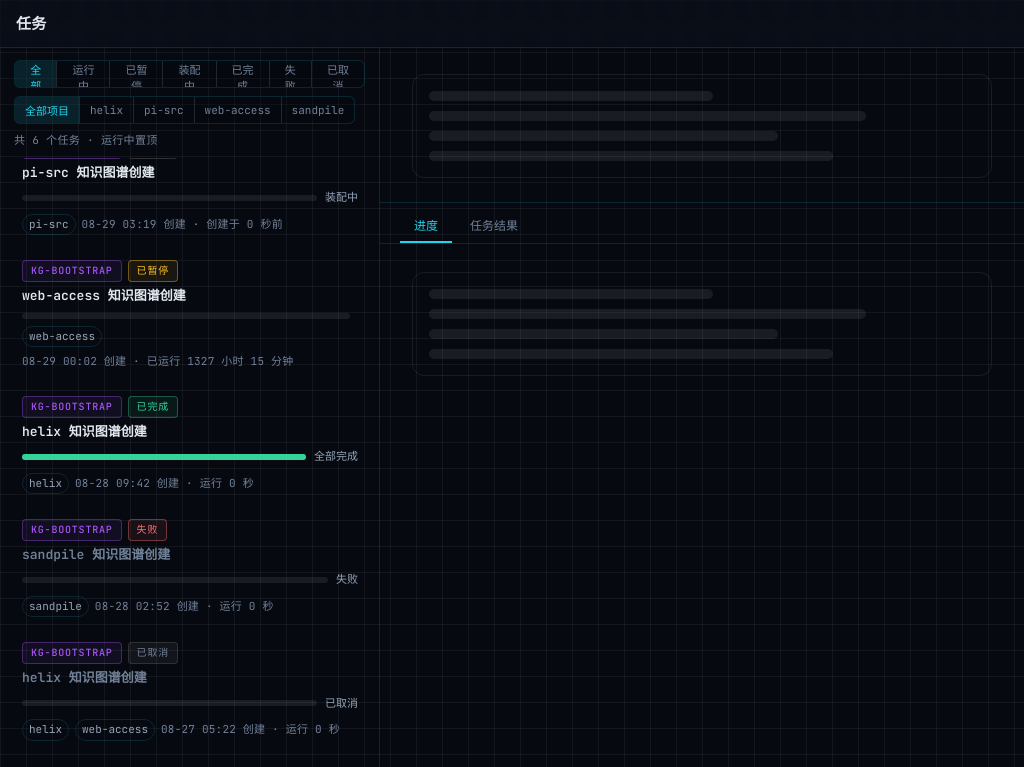
it: P-2 TasksPage：生命周期 + 删除门控（F3.5/F3.6） › failed 详情：重试+删除钮；重试命令回执 → 运行中 + toast
(page scrolled)
Click the 4th button with class "tk-row".
click(72, 530)  # box [8,509,371,628]
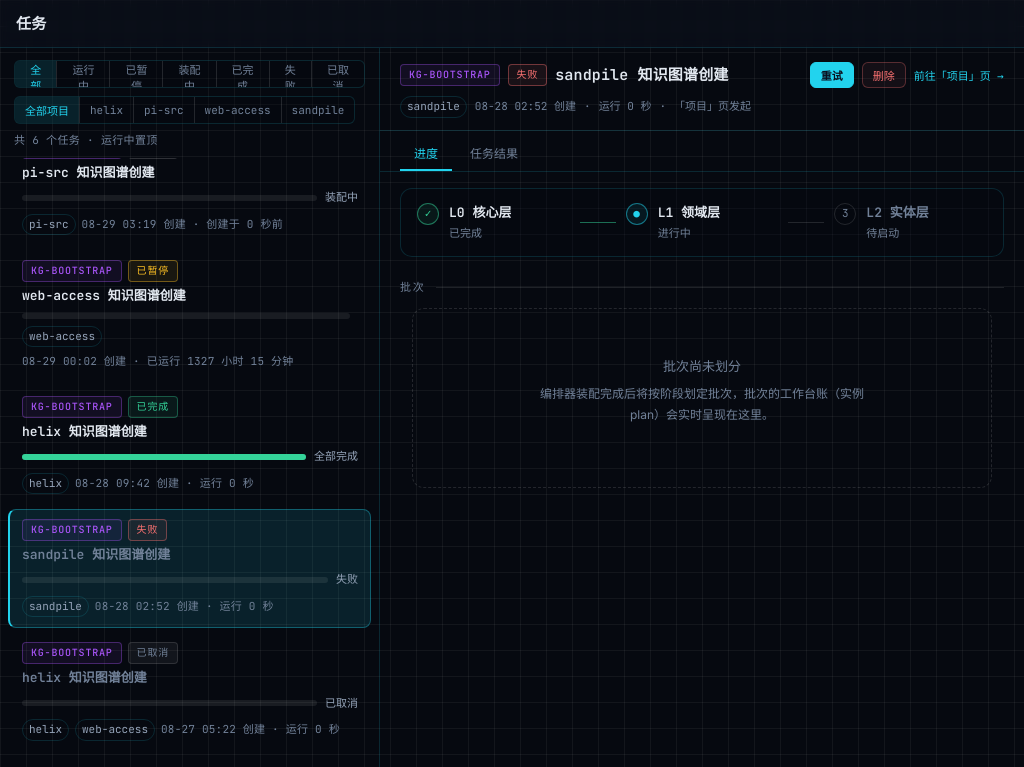
Expected: the button "重试" is shown
Expected: the button "删除" is shown, [862,62,906,88]
Click the button "重试".
click(832, 75)  # box [810,62,854,88]
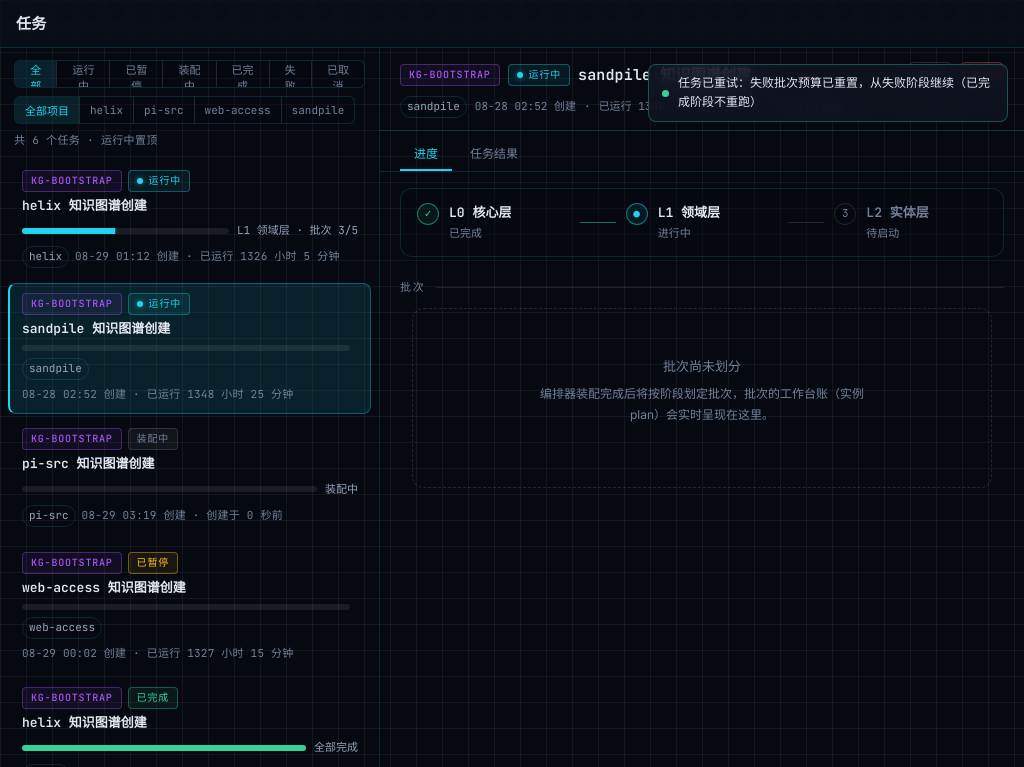
Expected: the element showing "运行中" is shown, [508,64,570,86]
Expected: the text "任务已重试：失败批次预算已重置，从失败阶段继续（已完成阶段不重跑）" is shown, [678,74,994,112]
